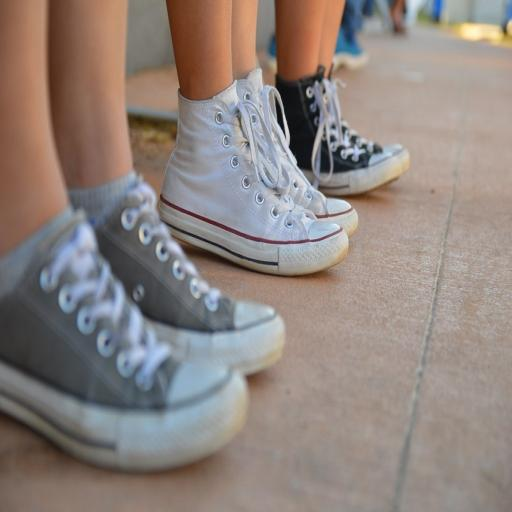shoe: (0, 215, 248, 471), (95, 178, 285, 374), (159, 83, 349, 276), (236, 69, 358, 238), (276, 67, 402, 196), (326, 79, 410, 174), (333, 28, 369, 70), (265, 35, 277, 74)
